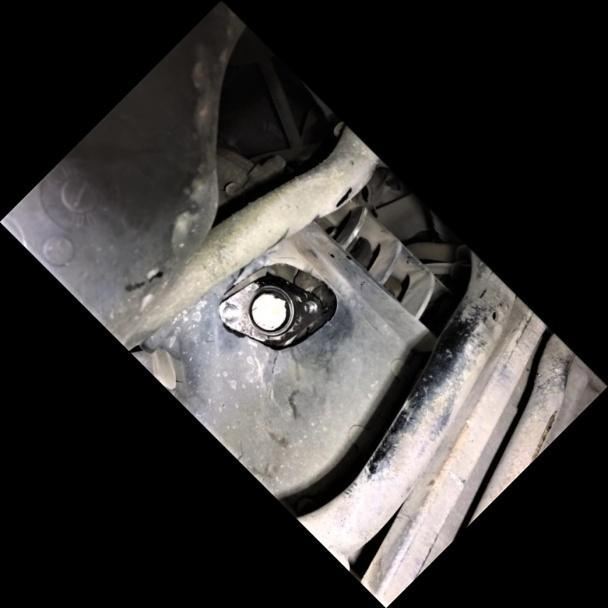hole: (214, 296, 244, 326), (299, 295, 321, 318)
